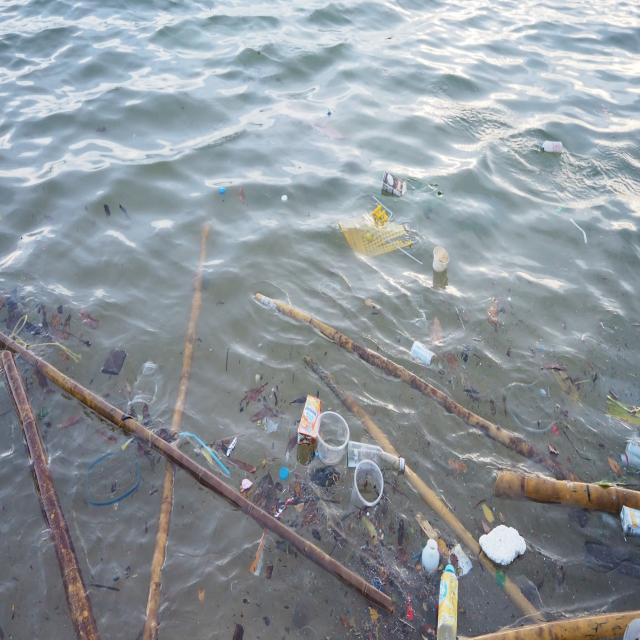foam: (476, 521, 526, 569)
plastic: (436, 564, 460, 640), (542, 139, 564, 154)
plastic bottle: (177, 431, 231, 476), (127, 356, 163, 420), (312, 408, 348, 468), (350, 462, 384, 513), (409, 339, 437, 368), (421, 537, 440, 575), (431, 245, 450, 273)
unknow: (337, 203, 412, 258), (506, 381, 560, 437), (298, 392, 322, 446), (615, 429, 640, 477), (619, 504, 640, 542), (381, 168, 406, 197), (570, 218, 590, 246)
